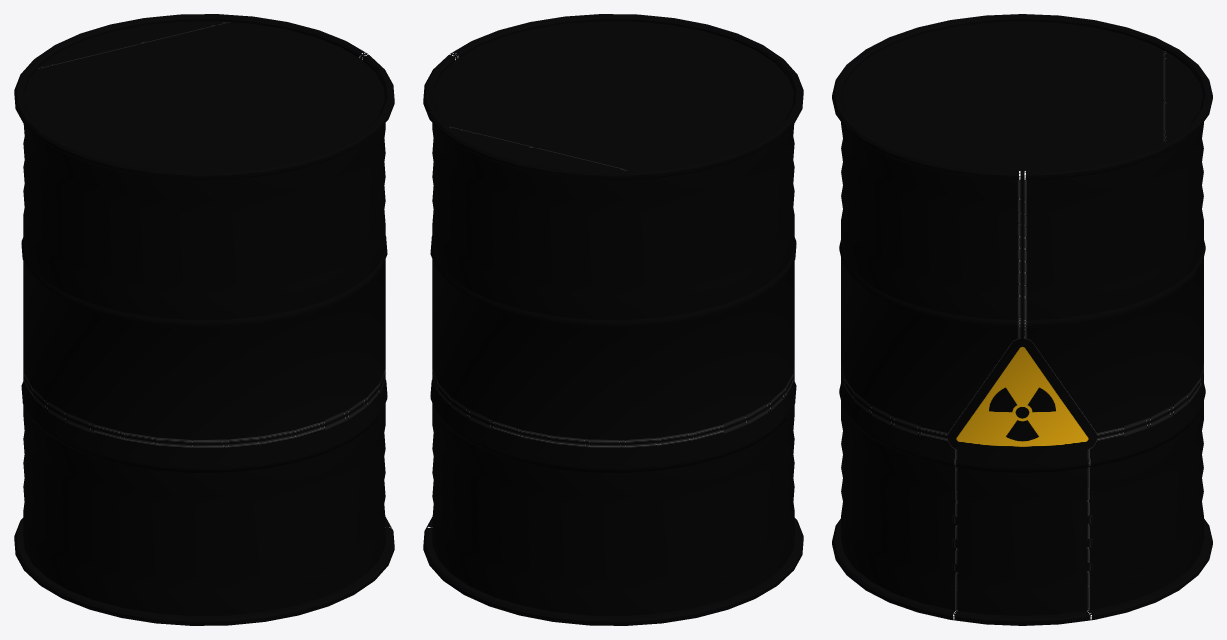
Rendered from radiactive_barrel.glb.
The picture shows the model from 3 angles, left to right: view 1: azimuth 30°, elevation 25°; view 2: azimuth 150°, elevation 25°; view 3: azimuth 270°, elevation 25°; orthographic projection.
Visible parts, largest first — view 1: Cylinder.001; view 2: Cylinder.001; view 3: Cylinder.001.
Boxes of the visible parts, box(x1,y1,x2,y2) form: Cylinder.001: box(14, 14, 394, 625); Cylinder.001: box(423, 14, 803, 625); Cylinder.001: box(832, 14, 1212, 625).
Size of the model in its own units: 0.7515 by 0.9856 by 0.7515.
1 material, 1 textured.
